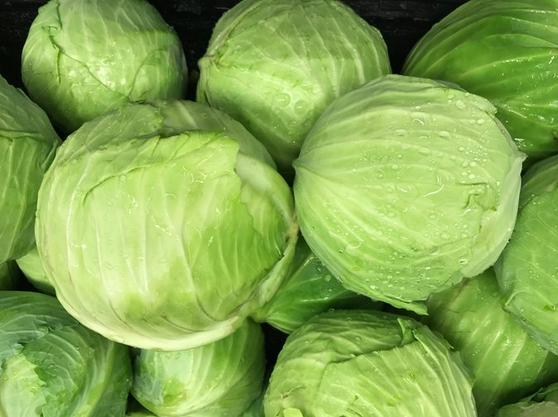cabbage: (33, 102, 303, 344), (289, 67, 522, 306)
